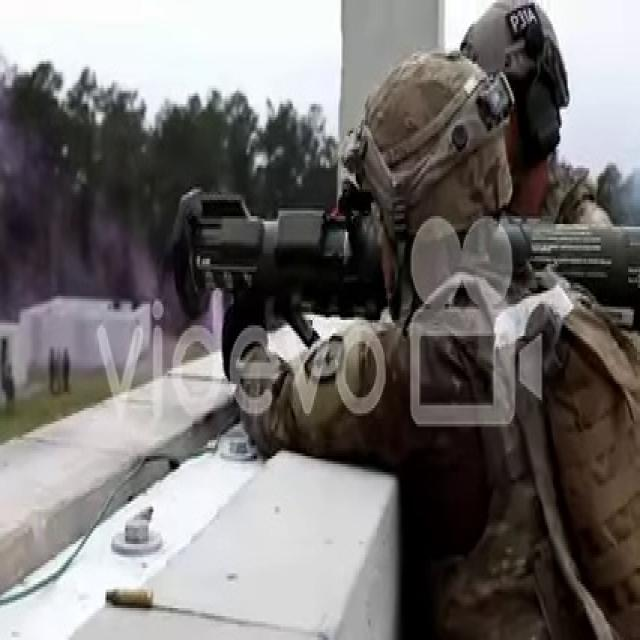bazooka: (164, 185, 640, 334)
